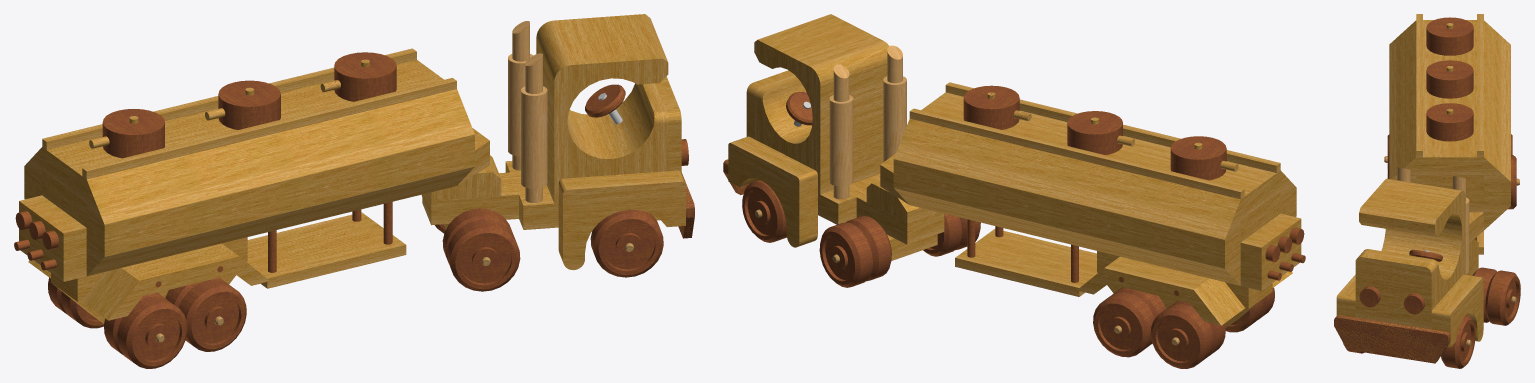
Rendered from truck.dae.
3 renders of one model, left to right at view 1: azimuth 30°, elevation 25°; view 2: azimuth 150°, elevation 25°; view 3: azimuth 270°, elevation 25°, orthographic. The views are drawn at different scales.
Parts seen in each view (by area): view 1: tank_top, tank_sides (×2), tractor_cab (×3), _2__wheel (×10), tank_dome (×3), tank_top_rails (×2), tractor_fender, hose_storage_platform, fender (×2), tractor-exhaust_stacks (×4), tank_bottom, tractor-base (+7 smaller); view 2: tank_top, tank_sides (×2), tractor_cab (×3), _2__wheel (×11), tank_dome (×3), tank_top_rails (×2), hose_storage_platform, tractor_fender, tractor-exhaust_stacks (×4), fender (×2), tank_bottom, tractor-base (+8 smaller); view 3: tank_top, tractor_cab (×3), tank_dome (×3), tractor-grill, tractor-front_bumper, _2__wheel (×6), tractor_fender (×2), tank_sides (×3), tank_top_rails (×2), tank_ends, tractor-exhaust_stacks (×3), tractor-head_light (×2) (+4 smaller).
Boxes of the visible parts, <box> form: tank_top: <box>29,60,470,213</box>; tank_sides (×2): <box>86,123,474,261</box>; tractor_cab (×3): <box>536,14,668,203</box>; _2__wheel (×10): <box>61,208,663,368</box>; tank_dome (×3): <box>102,52,396,158</box>; tank_top_rails (×2): <box>42,48,456,179</box>; tractor_fender: <box>558,170,685,270</box>; hose_storage_platform: <box>247,212,406,288</box>; fender (×2): <box>82,243,269,320</box>; tractor-exhaust_stacks (×4): <box>508,21,547,188</box>; tank_bottom: <box>86,171,469,276</box>; tractor-base: <box>422,161,660,229</box>; tank_top: <box>898,92,1292,229</box>; tank_sides (×2): <box>893,149,1240,272</box>; tractor_cab (×3): <box>754,14,888,194</box>; _2__wheel (×11): <box>742,180,1213,368</box>; tank_dome (×3): <box>963,85,1226,180</box>; tank_top_rails (×2): <box>909,82,1280,199</box>; hose_storage_platform: <box>955,229,1097,296</box>; tractor_fender: <box>728,136,817,247</box>; tractor-exhaust_stacks (×4): <box>829,45,906,186</box>; fender (×2): <box>1077,256,1244,325</box>; tank_bottom: <box>898,192,1240,285</box>; tractor-base: <box>758,174,944,244</box>; tank_top: <box>1396,20,1503,175</box>; tractor_cab (×3): <box>1359,178,1465,306</box>; tank_dome (×3): <box>1426,17,1473,141</box>; tractor-grill: <box>1355,253,1434,329</box>; tractor-front_bumper: <box>1334,315,1450,363</box>; _2__wheel (×6): <box>1441,155,1520,368</box>; tractor_fender (×2): <box>1336,274,1483,347</box>; tank_sides (×3): <box>1389,39,1510,212</box>; tank_top_rails (×2): <box>1416,14,1483,157</box>; tank_ends: <box>1416,175,1483,212</box>; tractor-exhaust_stacks (×3): <box>1397,167,1469,273</box>; tractor-head_light (×2): <box>1359,286,1424,314</box>.
Bounding box in the file's own units: 20.64 × 6.9 × 6.75.
